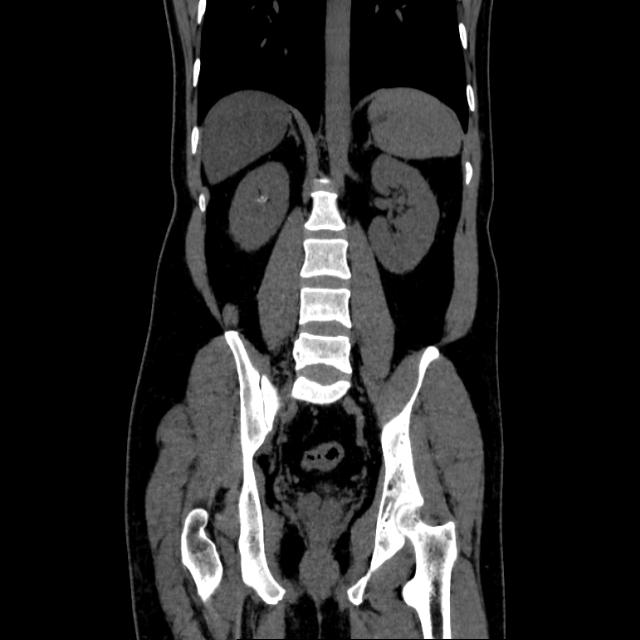kidneystone: (256, 193, 268, 202)
